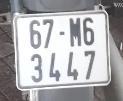3: (28, 51, 44, 82)
4: (48, 52, 62, 82), (67, 50, 78, 79)
6: (28, 19, 42, 49), (83, 17, 95, 45)
7: (83, 51, 95, 79), (43, 18, 54, 48)
M: (69, 17, 80, 46)
